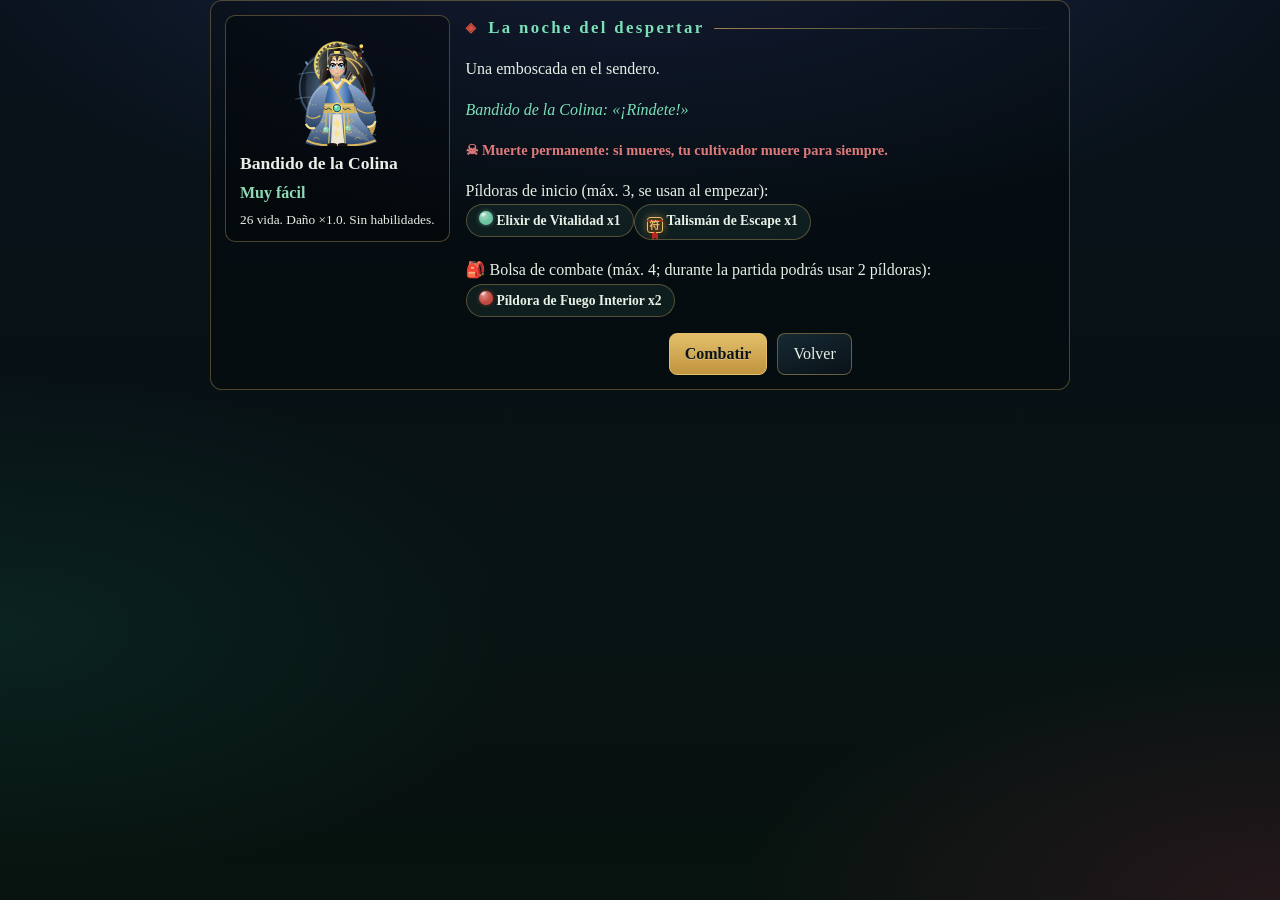
Combate › permite abrir el visor de mazo y del Agujero Negro (descartes)
This screenshot has width=1280, height=900.
Click the button "Combatir".
click(718, 354)  # box [669,333,767,375]
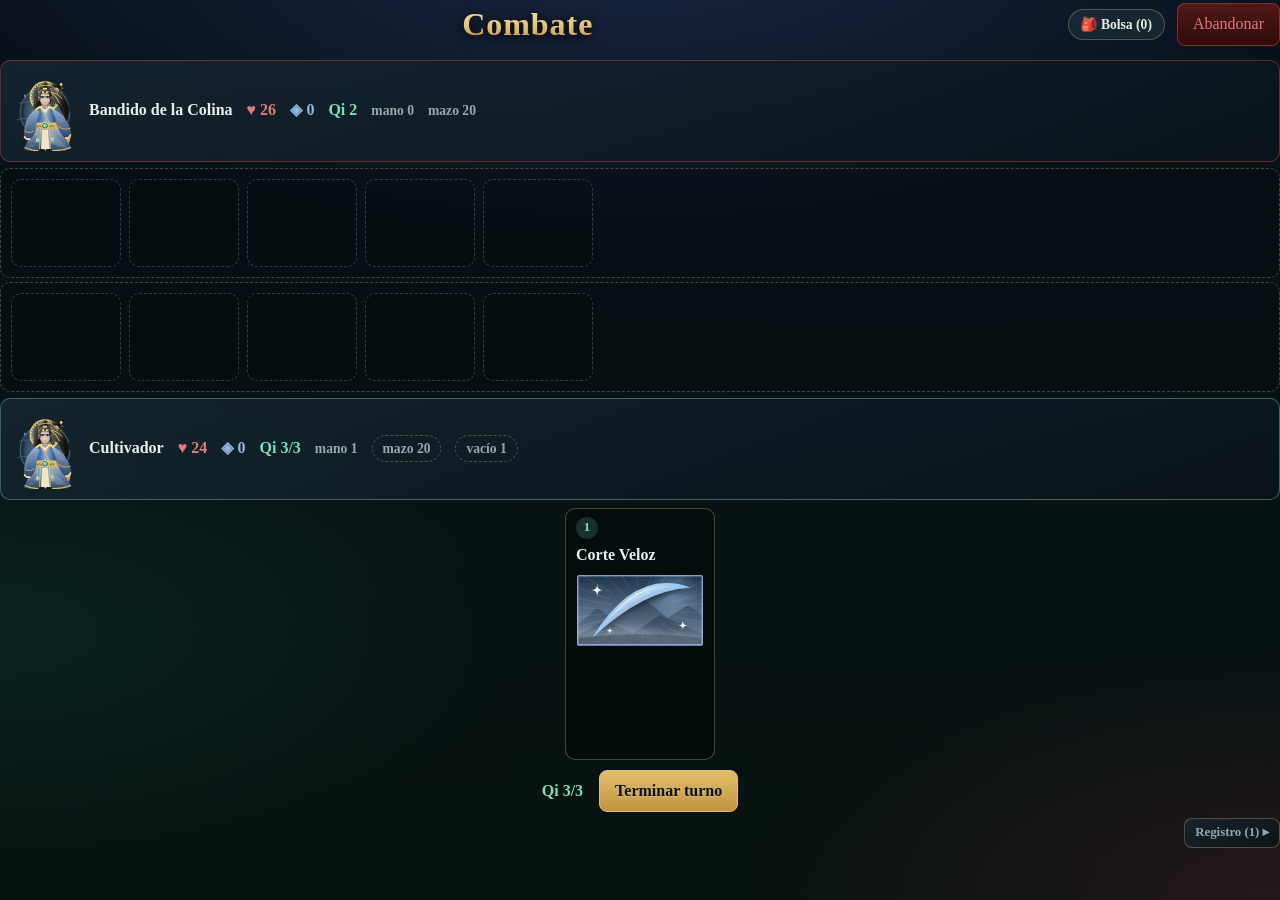
Now the list named "Tablero enemigo" is shown, box [0,168,1279,278]
Click the button "mazo 20".
click(406, 449)  # box [372,435,442,462]
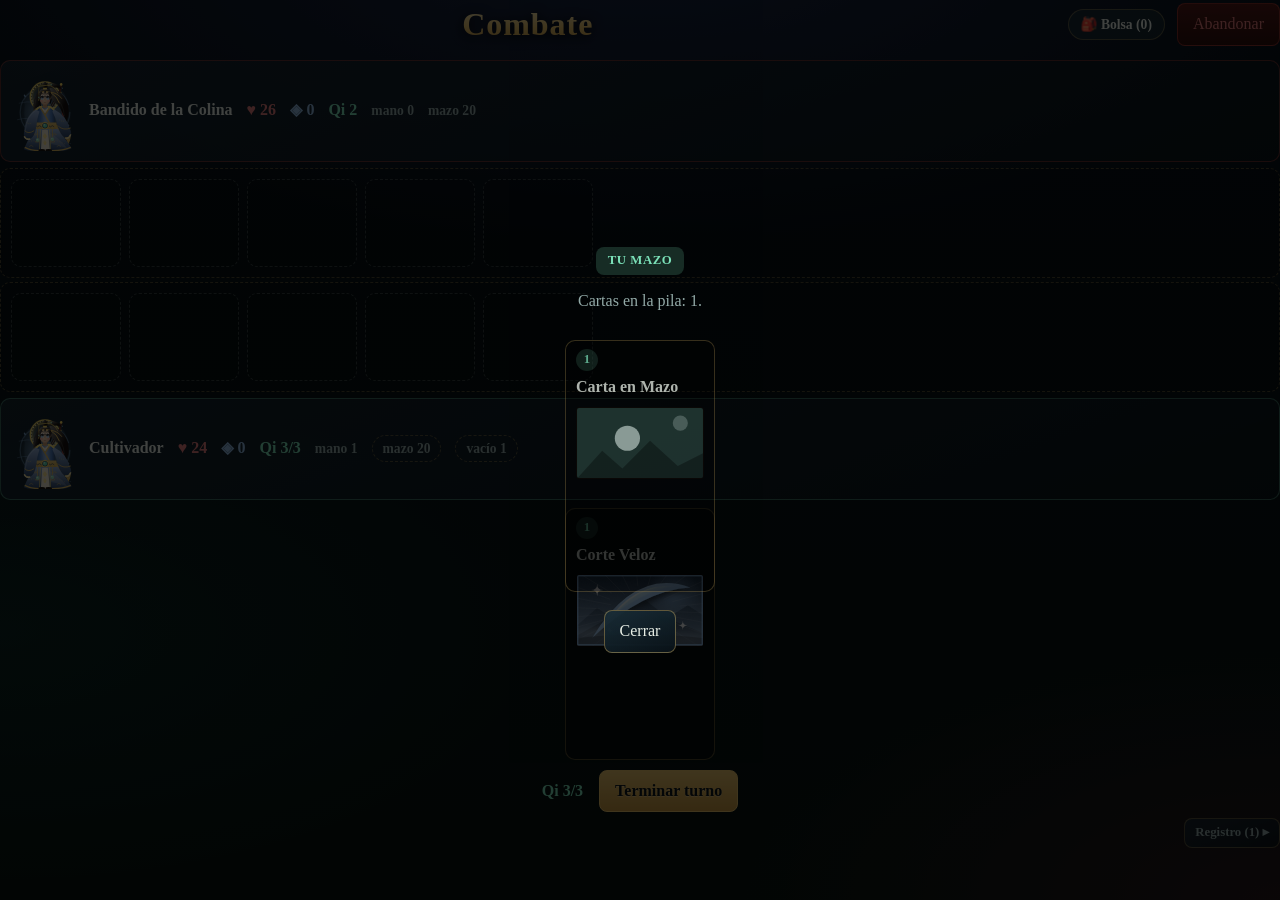
Now the text "Carta en Mazo" is shown, box [576,378,678,395]
Click the button "Cerrar".
click(640, 631)  # box [604,610,676,653]
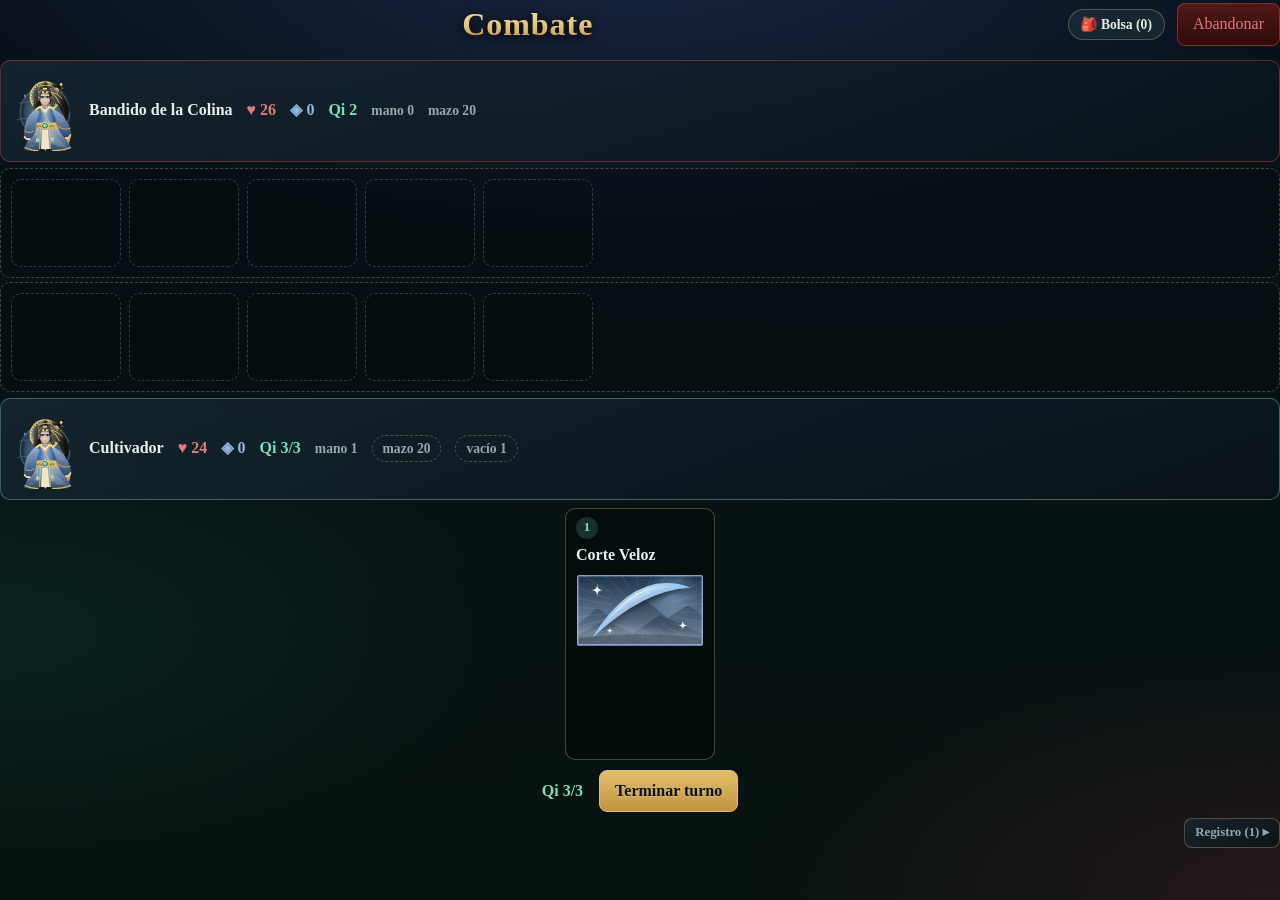
Click the button "vacío 1".
click(487, 449)  # box [456,435,518,462]
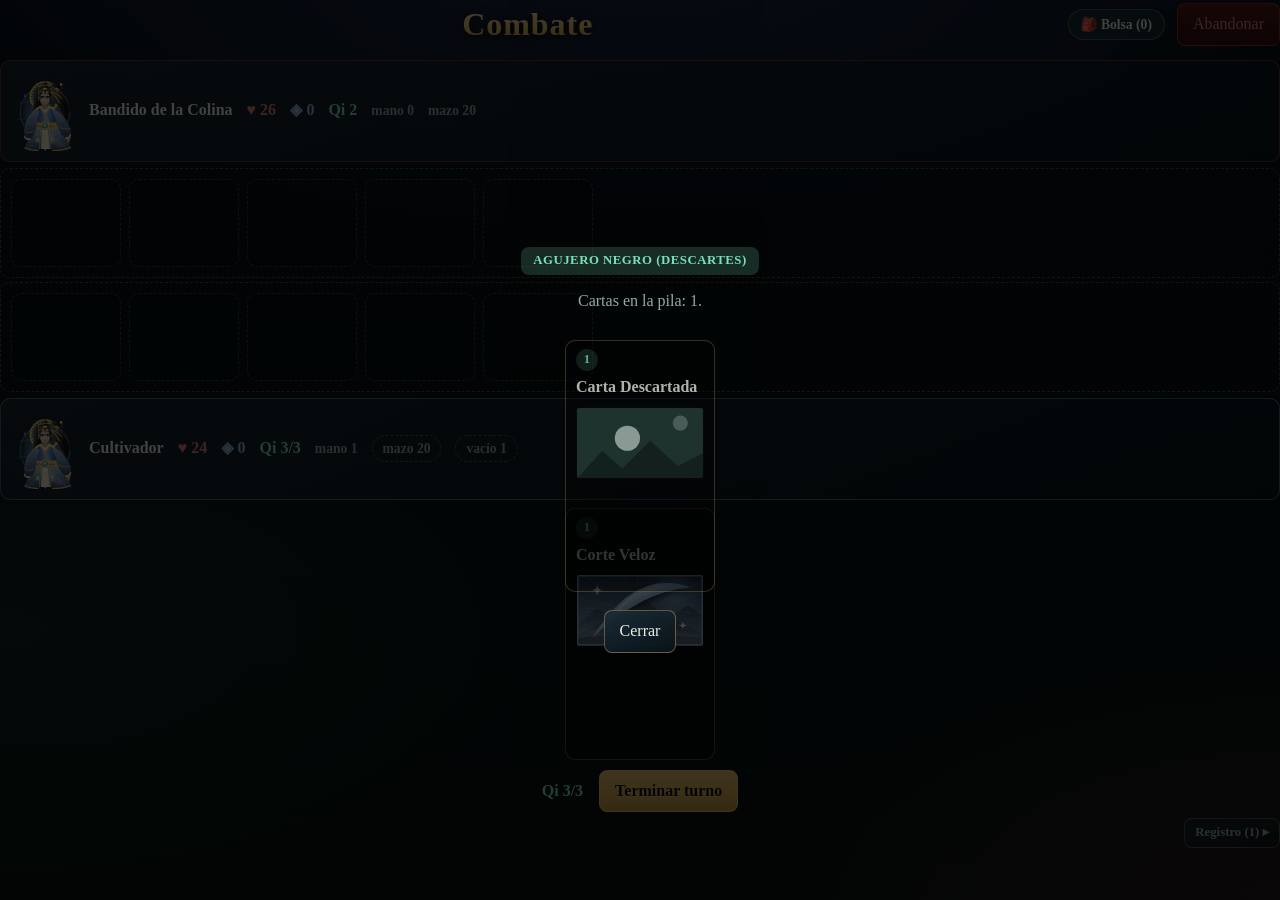
Now the text "Carta Descartada" is shown, box [576,375,704,400]
Now the text "Agujero Negro (descartes)" is shown, box [521,247,759,275]
